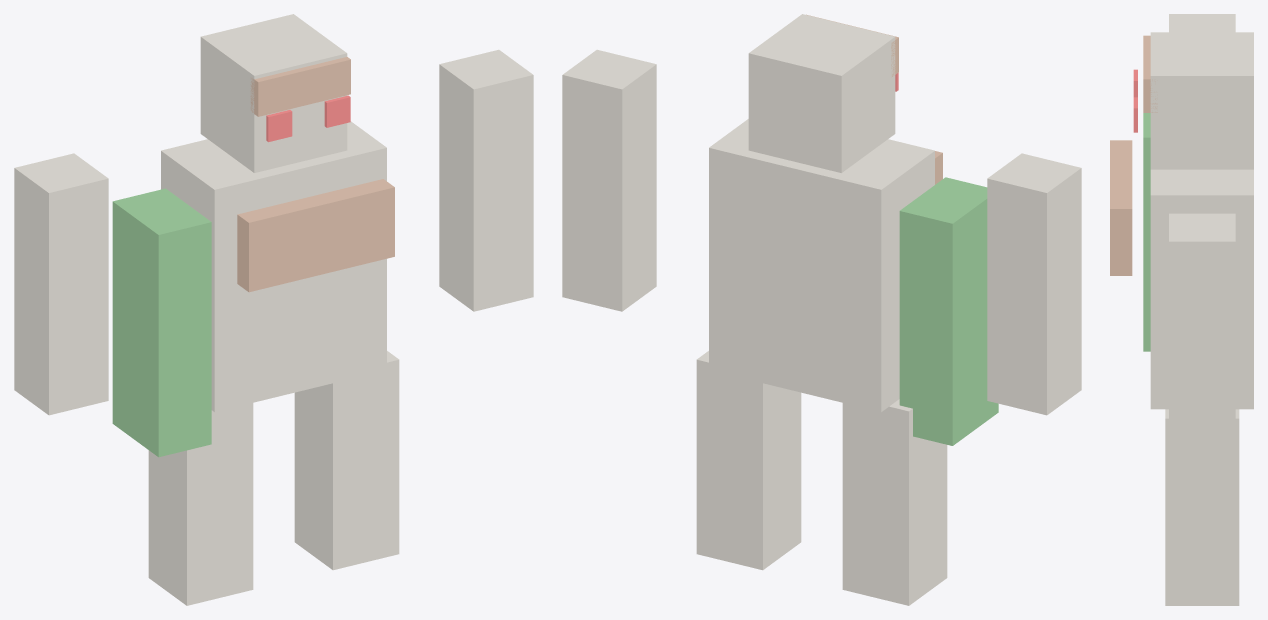
The model's file is iron_golem.gltf.
3 views of the same model, side by side, from view 1: azimuth 30°, elevation 25°; view 2: azimuth 150°, elevation 25°; view 3: azimuth 270°, elevation 25° (orthographic). The views are drawn at different scales.
Visible parts, largest first — view 1: GolemTorso, GolemVines, GolemLeftArm, GolemRightArm, GolemLeftLeg, GolemRightLeg, GolemHead, GolemChestPlate, GolemBrow, GolemRightEye, GolemLeftEye; view 2: GolemTorso, GolemLeftArm, GolemRightArm, GolemVines, GolemHead, GolemLeftLeg, GolemRightLeg; view 3: GolemLeftArm, GolemHead, GolemTorso, GolemLeftLeg, GolemChestPlate, GolemVines, GolemRightArm, GolemBrow.
Boxes of the visible parts, box(x1,y1,x2,y2) form: GolemTorso: box(161, 121, 386, 411); GolemVines: box(112, 188, 211, 457); GolemLeftArm: box(439, 49, 533, 311); GolemRightArm: box(14, 153, 108, 415); GolemLeftLeg: box(294, 351, 399, 570); GolemRightLeg: box(148, 403, 253, 605); GolemHead: box(200, 14, 347, 172); GolemChestPlate: box(237, 179, 394, 292); GolemBrow: box(250, 57, 350, 116); GolemRightEye: box(266, 110, 292, 142); GolemLeftEye: box(324, 95, 350, 127); GolemTorso: box(709, 119, 934, 411); GolemLeftArm: box(562, 49, 656, 311); GolemRightArm: box(987, 153, 1081, 415); GolemVines: box(899, 177, 998, 445); GolemHead: box(748, 14, 895, 172); GolemLeftLeg: box(696, 351, 801, 570); GolemRightLeg: box(842, 399, 947, 605); GolemLeftArm: box(1169, 213, 1235, 455); GolemHead: box(1150, 32, 1253, 169); GolemTorso: box(1150, 169, 1253, 409); GolemLeftLeg: box(1165, 409, 1239, 605); GolemChestPlate: box(1110, 140, 1132, 275); GolemVines: box(1143, 113, 1150, 351); GolemRightArm: box(1169, 14, 1235, 32); GolemBrow: box(1143, 35, 1157, 112).
Bounding box in the file's own units: 3.65 × 3.75 × 0.975.
